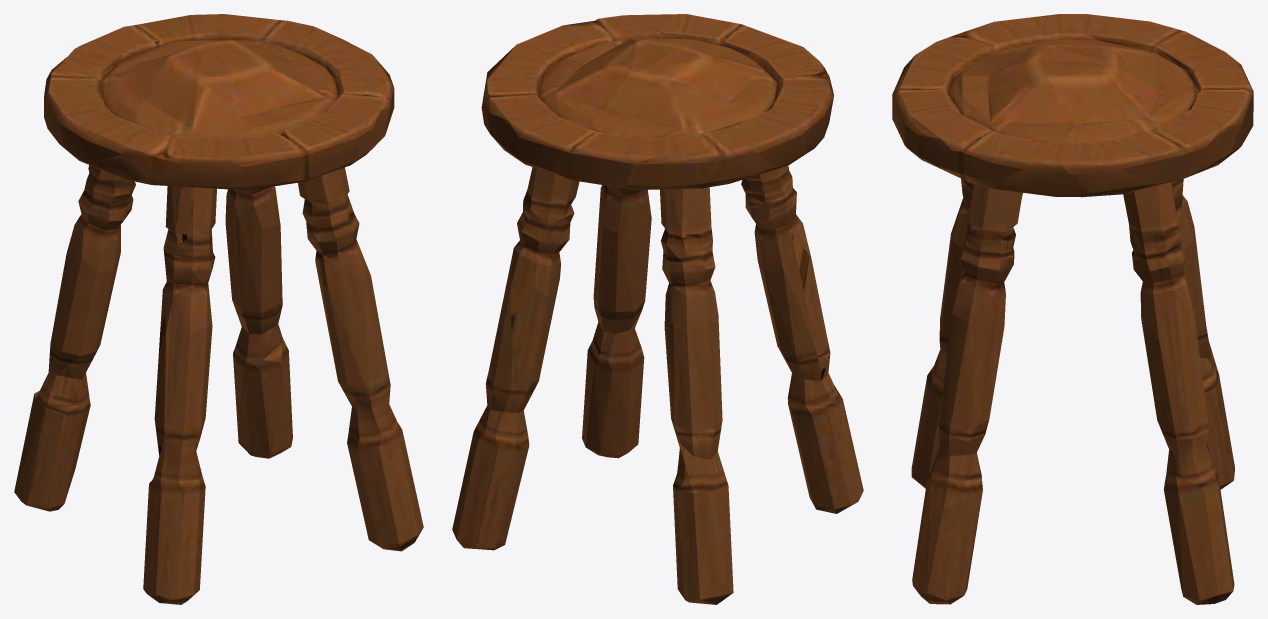
The model's file is stool.low.glb.
The picture shows the model from 3 angles, left to right: view 1: azimuth 30°, elevation 25°; view 2: azimuth 150°, elevation 25°; view 3: azimuth 270°, elevation 25°; orthographic projection. The views are drawn at different scales.
Visible parts, largest first — view 1: output_unwrapped; view 2: output_unwrapped; view 3: output_unwrapped.
Boxes of the visible parts, left/top/right/bottom form: output_unwrapped: left=14, top=14, right=423, bottom=604; output_unwrapped: left=452, top=14, right=863, bottom=604; output_unwrapped: left=892, top=14, right=1253, bottom=604.
Bounding box in the file's own units: 1.29 × 1.89 × 1.28.
1 material, 1 textured.
